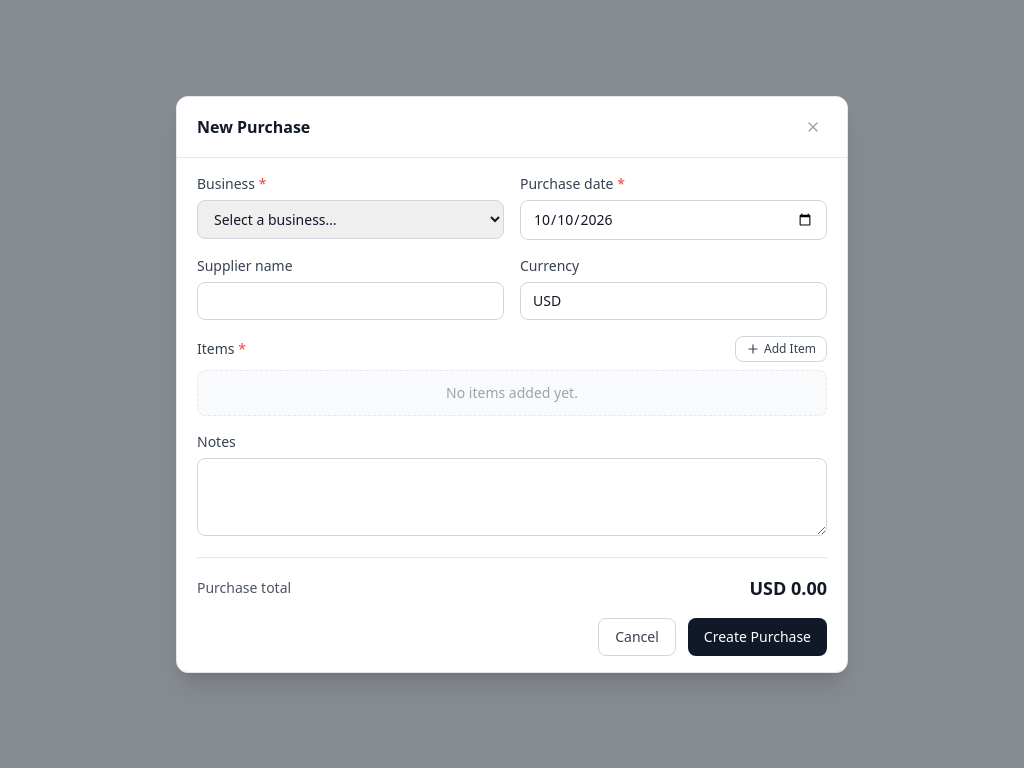
Test: PurchaseForm › shows validation errors for missing items and invalid quantity
The image size is (1024, 768).
Select "Test Shop" in the dropdown labelled "Business *" at (350, 219), box x1=197 y1=200 x2=504 y2=238
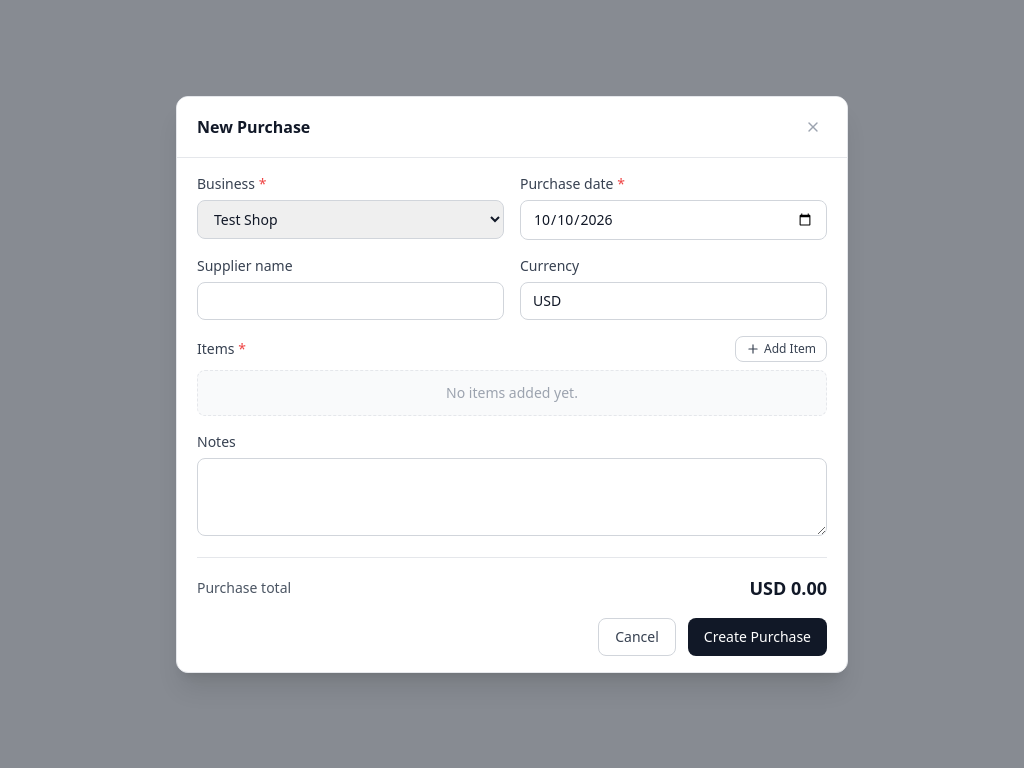
Click the button "Create Purchase" at (757, 636), box x1=688 y1=618 x2=827 y2=656
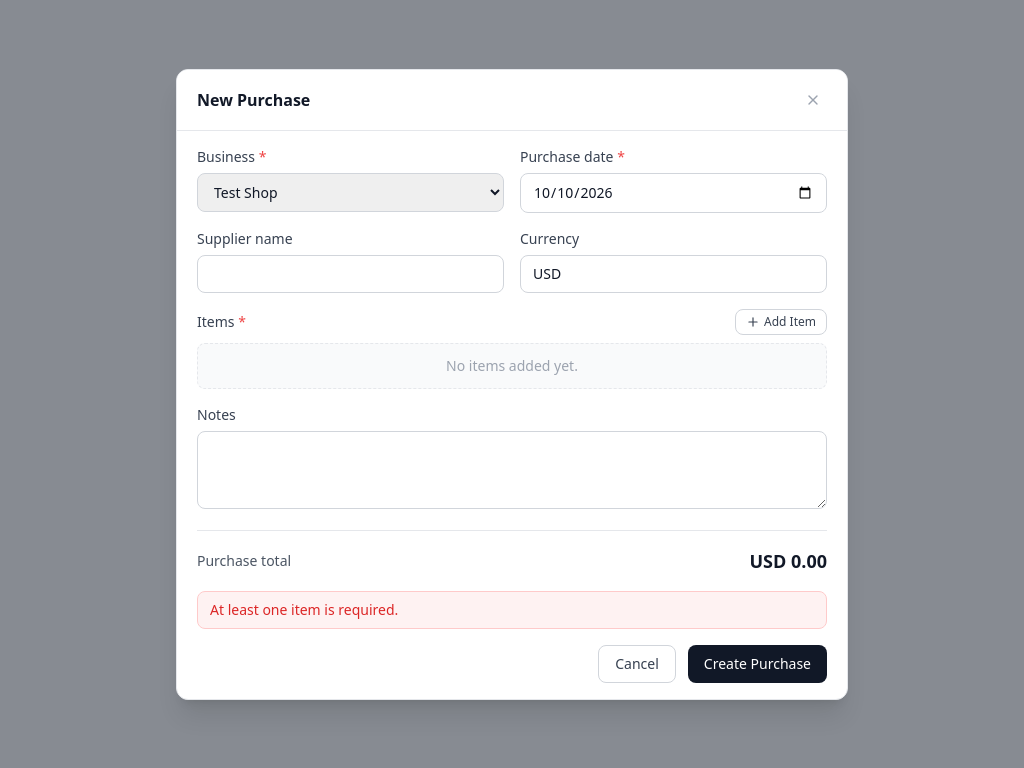
Check: the message shows "At least one item", box x1=210 y1=600 x2=398 y2=618
Click the button "Add Item" at (781, 322), box x1=735 y1=308 x2=827 y2=334
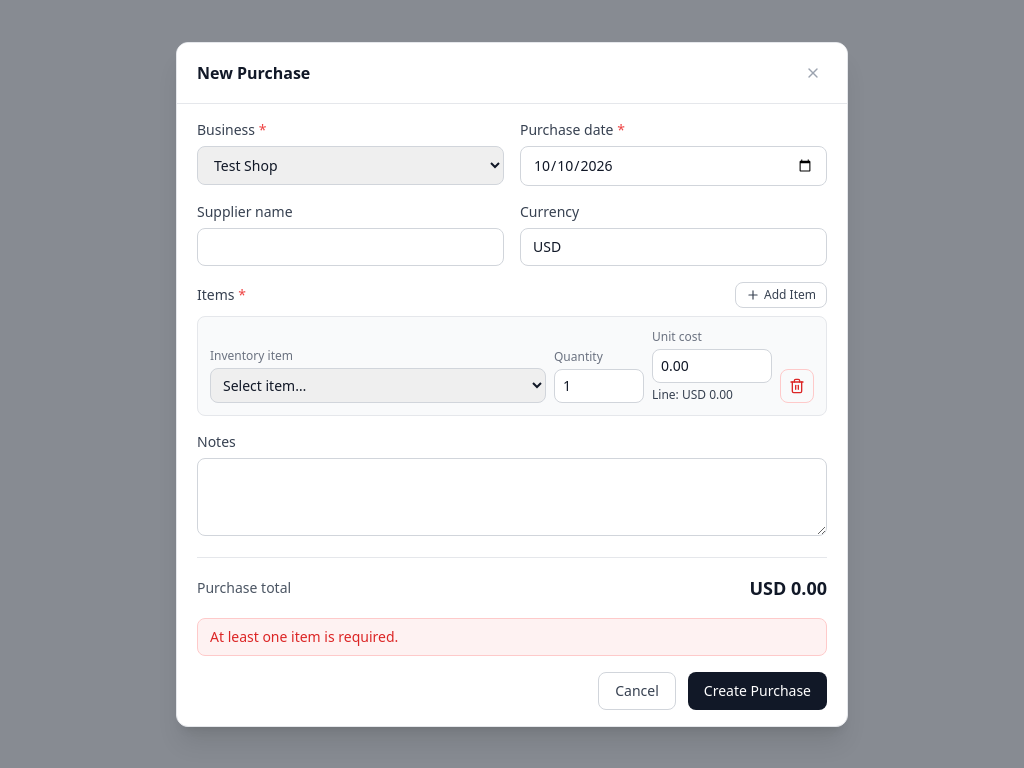
Select "Coffee Beans" in the dropdown labelled "Inventory item" at (378, 385), box x1=210 y1=368 x2=546 y2=402
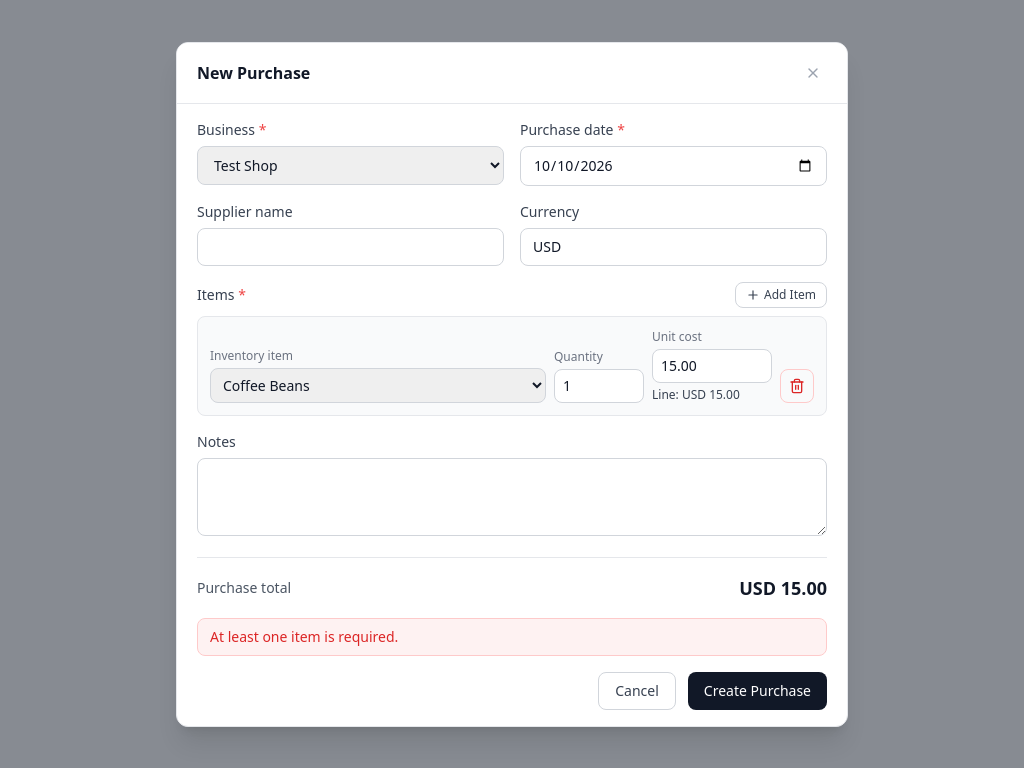
Replace the text in the number field labelled "Quantity" with "0" at (599, 386), box x1=554 y1=368 x2=644 y2=402
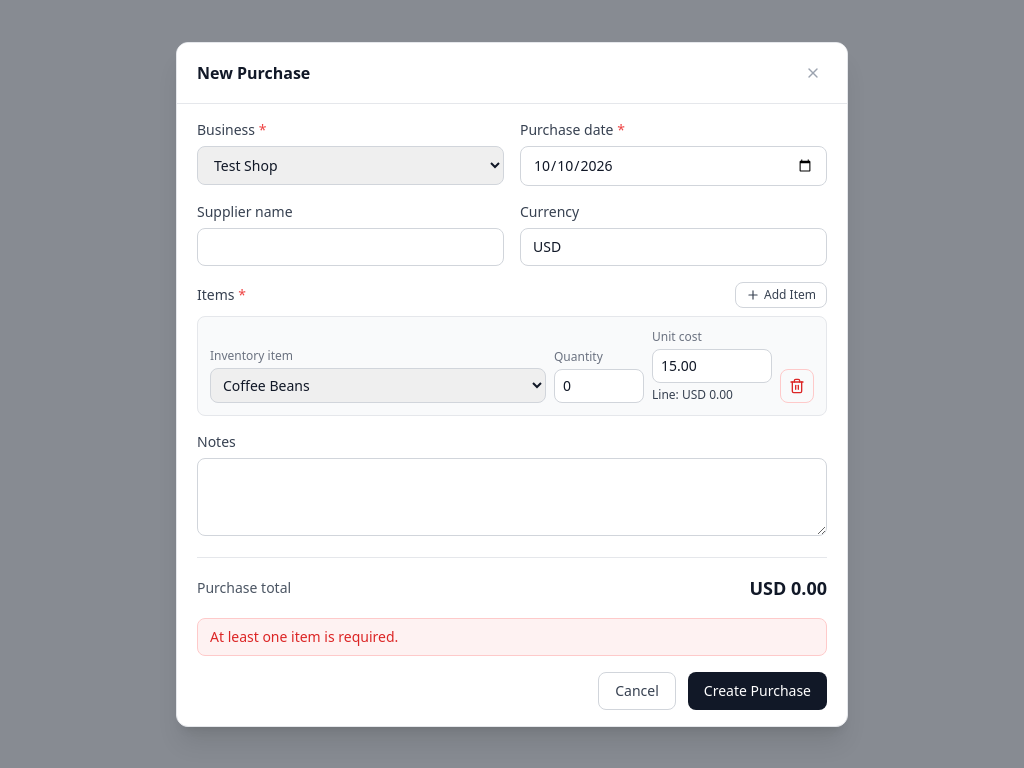
Click the button "Create Purchase" at (757, 690), box x1=688 y1=672 x2=827 y2=710
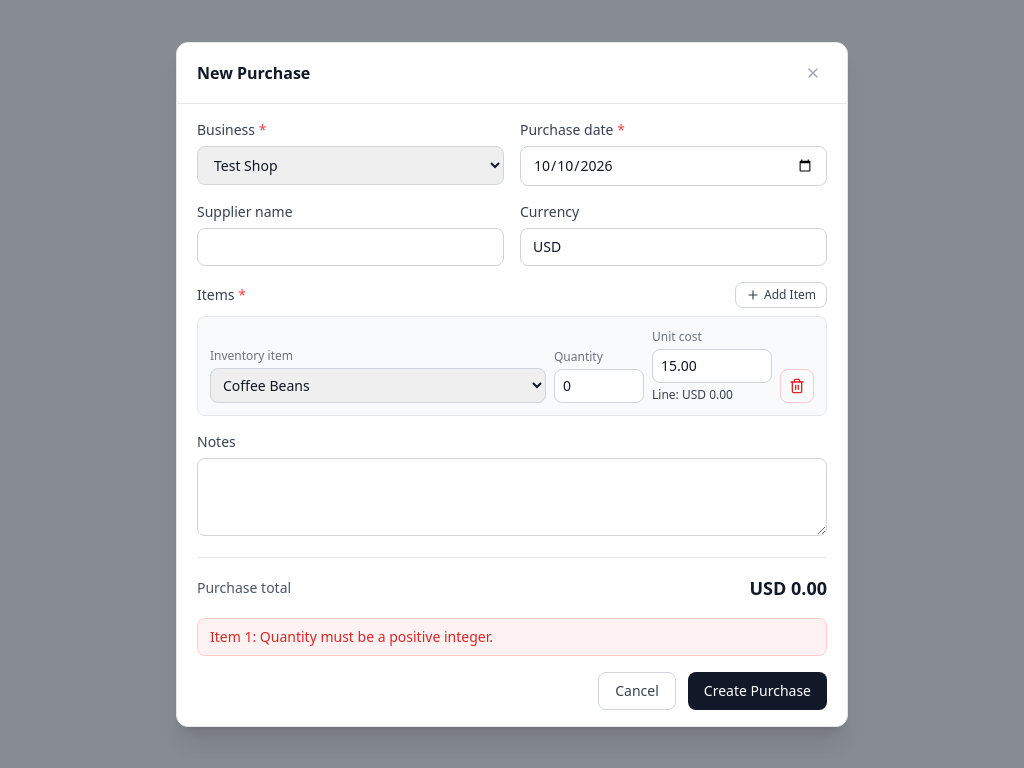
Check: the message shows "positive integer", box x1=210 y1=626 x2=493 y2=646
